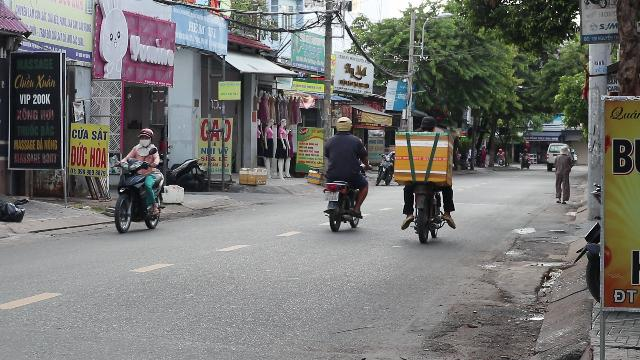helmet: (137, 127, 153, 146), (334, 116, 352, 132)
licenseplate: (324, 192, 338, 200)
motorcyclist: (393, 114, 459, 242), (320, 116, 370, 230), (111, 127, 165, 232)
nohelmet: (419, 116, 436, 132)
